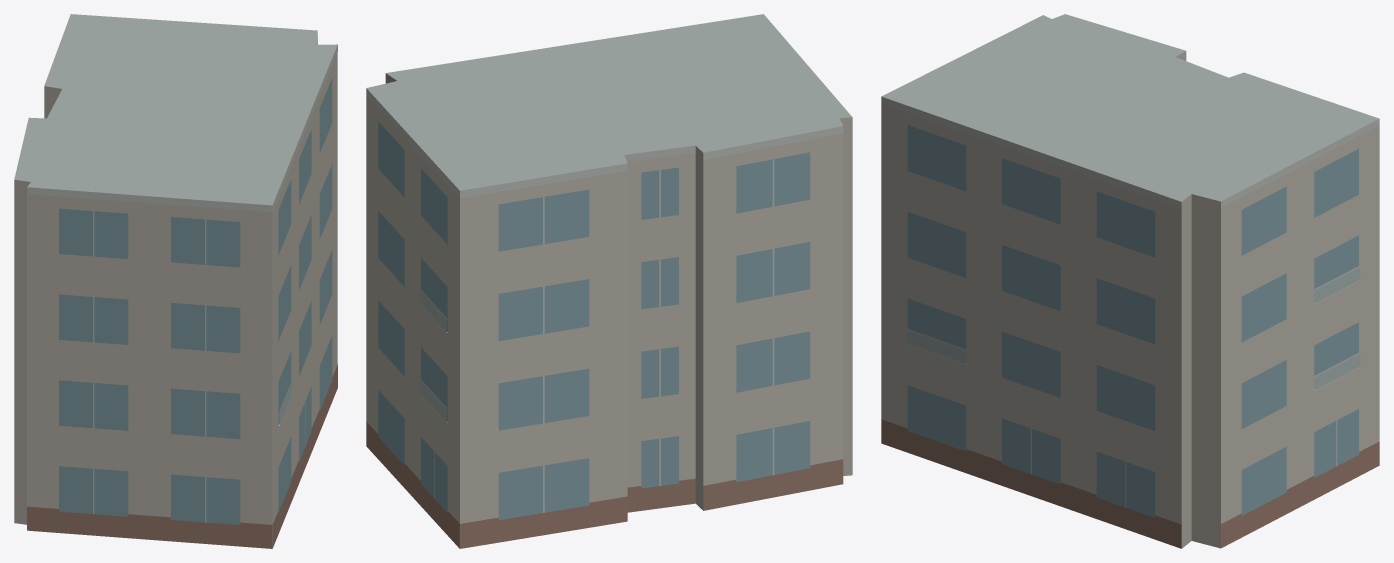
The model's file is survey-upis-32925685.glb.
3 views of the same model, side by side, from view 1: azimuth 30°, elevation 25°; view 2: azimuth 150°, elevation 25°; view 3: azimuth 270°, elevation 25° (orthographic). The views are drawn at different scales.
Visible parts, largest first — view 1: survey-upis-32925685.tmp; view 2: survey-upis-32925685.tmp; view 3: survey-upis-32925685.tmp.
Part boxes in pixels (bbox=[...]): survey-upis-32925685.tmp: bbox=[14, 14, 337, 548]; survey-upis-32925685.tmp: bbox=[366, 14, 852, 548]; survey-upis-32925685.tmp: bbox=[881, 14, 1379, 548].
Bounding box in the file's own units: 14.07 × 12.1 × 15.76.
